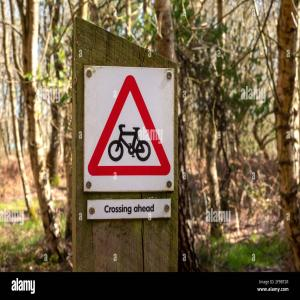CYCLES CROSSING: (83, 60, 178, 197)
